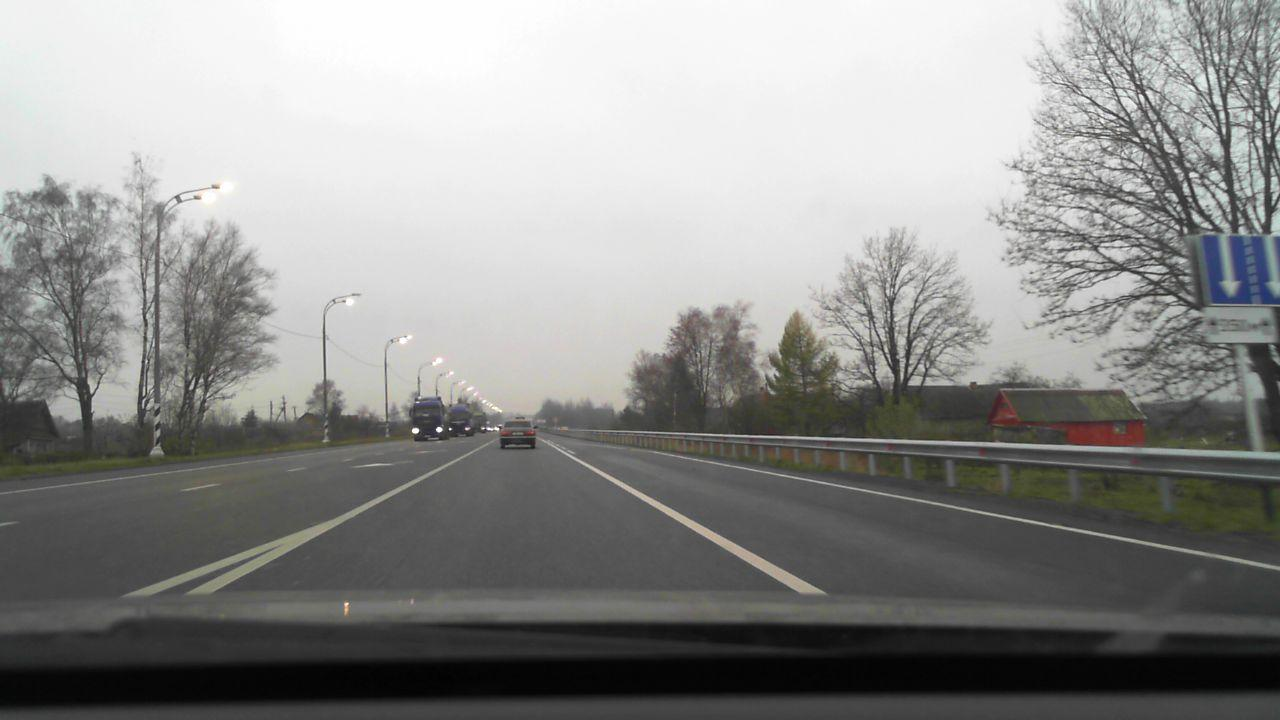5_15_7: (1197, 230, 1280, 309)
8_2_1: (1205, 308, 1279, 345)
